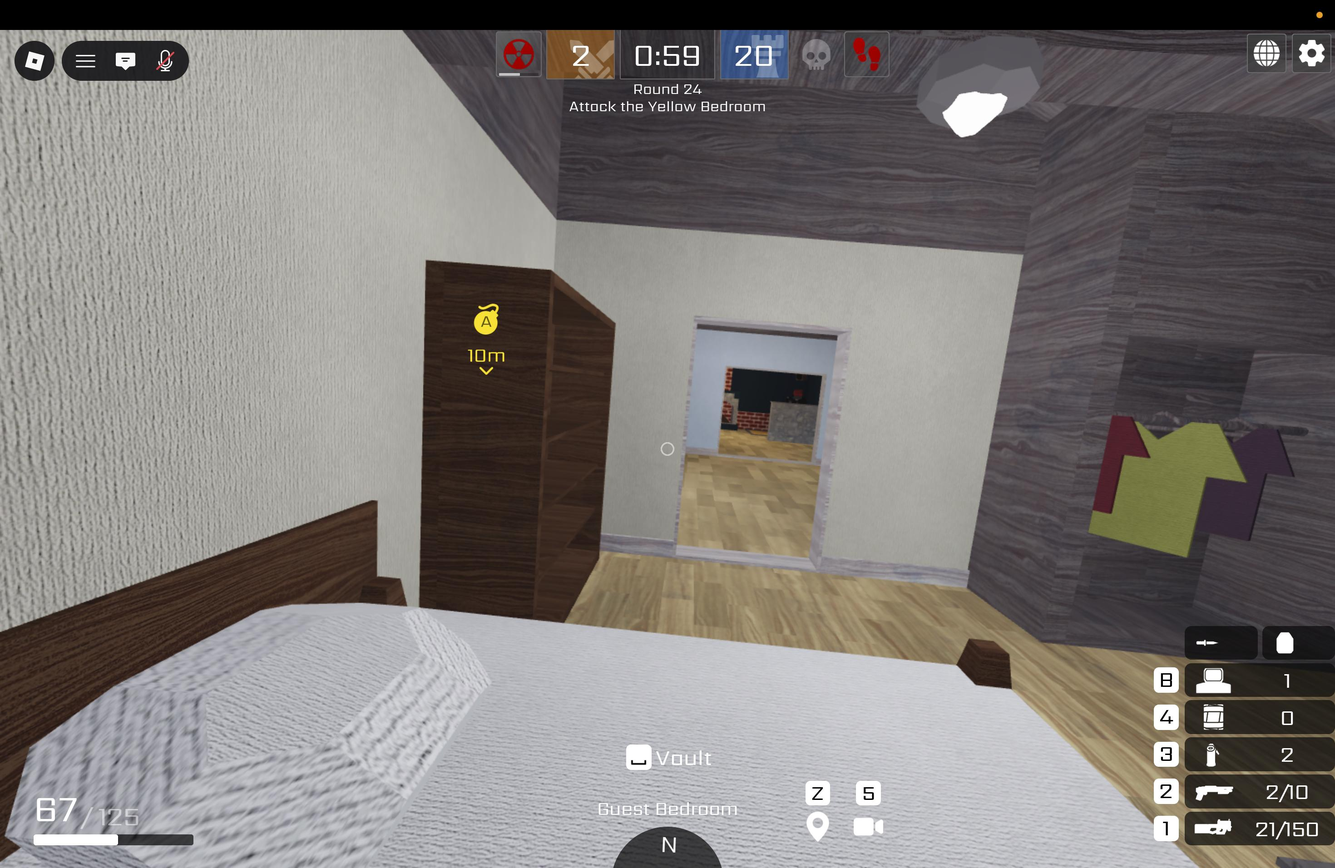enemy: (783, 388, 807, 407)
